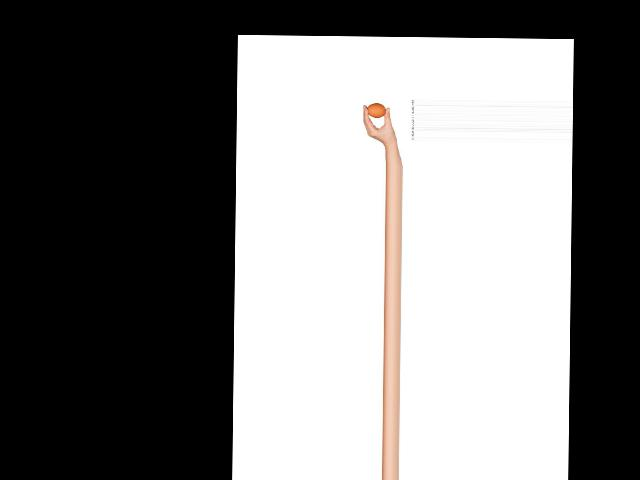egg: (366, 102, 386, 117)
